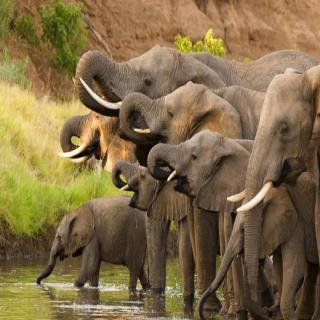Elephant: (70, 23, 283, 148), (226, 67, 320, 318), (118, 83, 272, 188), (32, 193, 150, 298), (147, 134, 273, 232)
